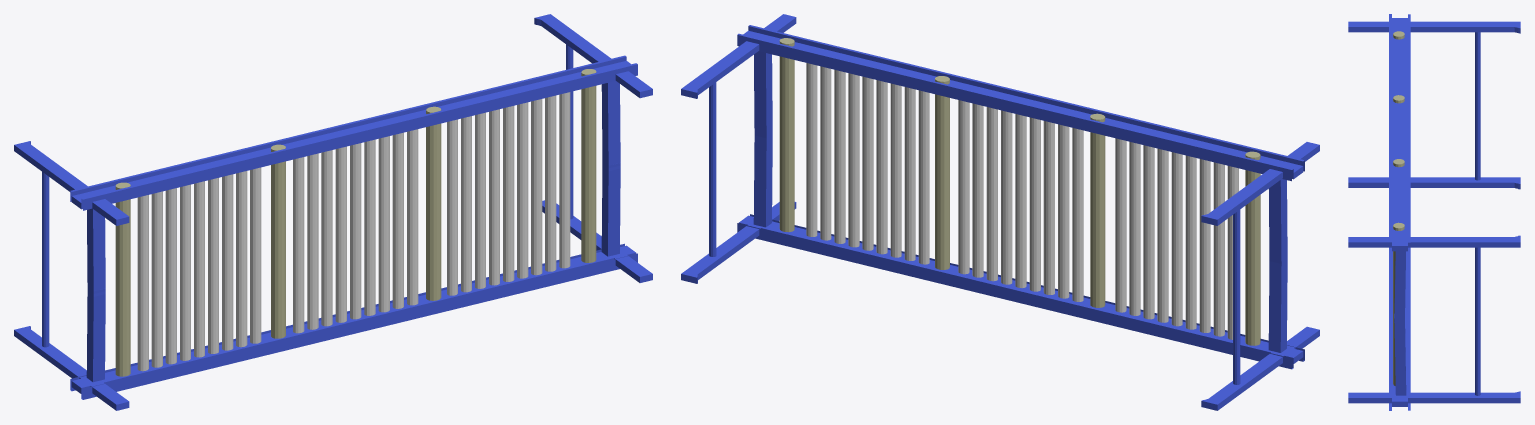
The model's file is warehouse_roller_conveyer.glb.
3 views of the same model, side by side, from view 1: azimuth 30°, elevation 25°; view 2: azimuth 150°, elevation 25°; view 3: azimuth 270°, elevation 25° (orthographic). The views are drawn at different scales.
Parts seen in each view (by area): view 1: Cylinder.007; view 2: Cylinder.007; view 3: Cylinder.007.
Part boxes in pixels (left/top/right/bottom): Cylinder.007: left=14, top=14, right=652, bottom=410; Cylinder.007: left=681, top=14, right=1319, bottom=410; Cylinder.007: left=1348, top=14, right=1520, bottom=410.
Bounding box in the file's own units: 3.79 × 1.31 × 1.21.
